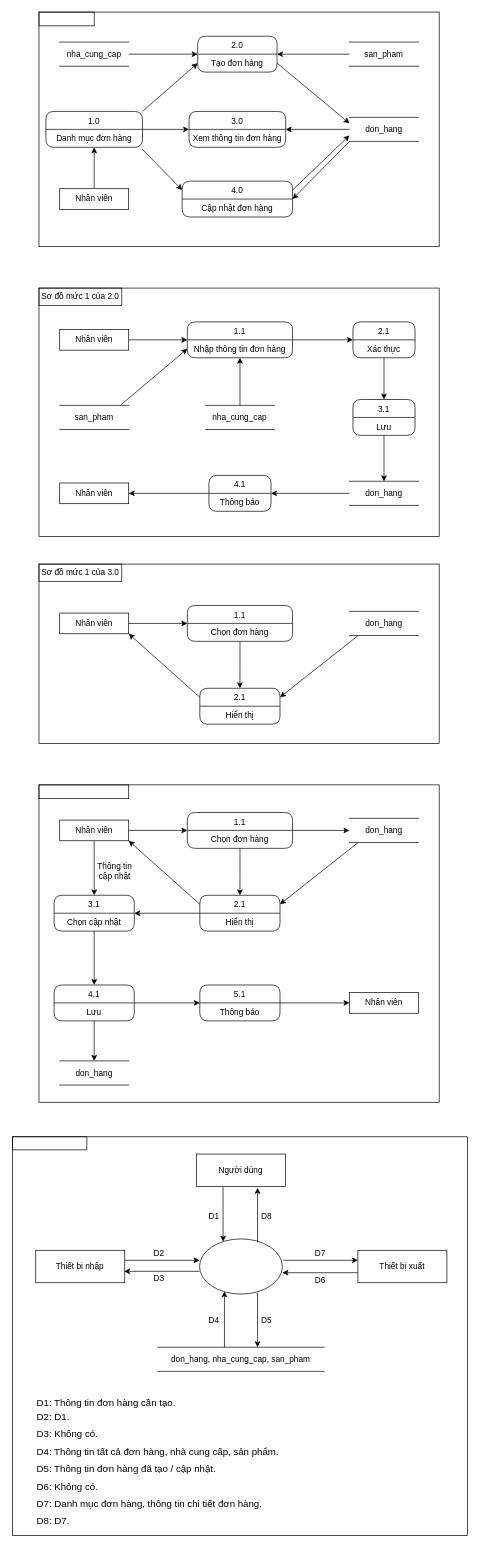
The diagram is 480 pixels wide and 1548 high, and some of its shapes have lost their labels. Here are the shapes that lost their labels. From the top down, the centre of each, then its label:
At (66,18): "Sơ đồ mức 0".
At (83,791): "Sơ đồ mức 1 của 4.0".
At (49,1143): "Sơ đồ tổng quát".
At (240,1266): "Quản lí đặt hàng".
